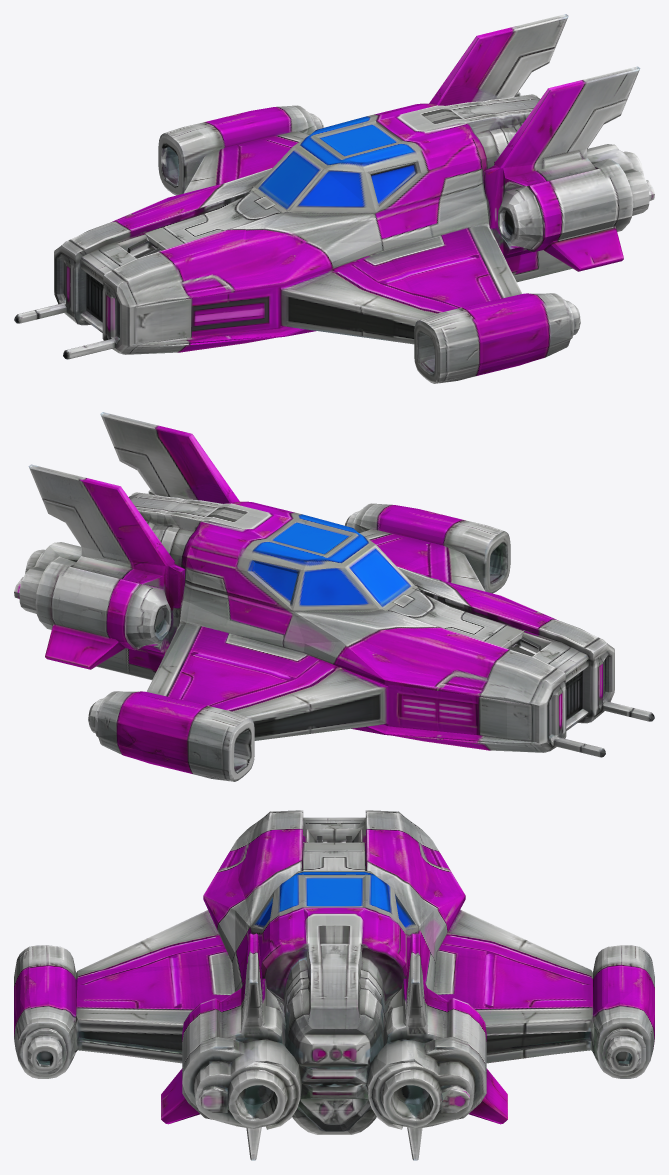
The model's file is Meshy_AI_Emerald_Void_Intercep_0714144153_texture.glb.
3 views of the same model, one above another, from view 1: azimuth 30°, elevation 25°; view 2: azimuth 150°, elevation 25°; view 3: azimuth 270°, elevation 25° (orthographic). The views are drawn at different scales.
Parts seen in each view (by area): view 1: mesh_node; view 2: mesh_node; view 3: mesh_node.
Boxes of the visible parts, bbox=[...] form: mesh_node: bbox=[14, 14, 654, 383]; mesh_node: bbox=[14, 412, 654, 781]; mesh_node: bbox=[14, 810, 654, 1160].
Bounding box in the file's own units: 1.91 × 0.6106 × 1.66.
1 material, 1 textured.
